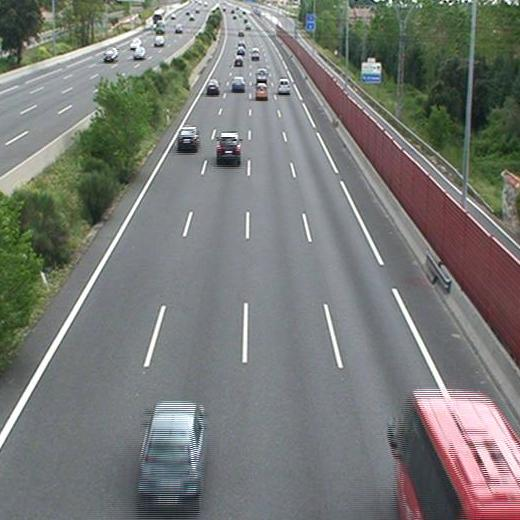car: (140, 402, 203, 498), (217, 133, 241, 159), (179, 128, 198, 148), (231, 77, 246, 90), (277, 79, 290, 93), (206, 79, 219, 92), (255, 85, 268, 97), (255, 69, 267, 82), (250, 48, 260, 59), (233, 57, 243, 66)
